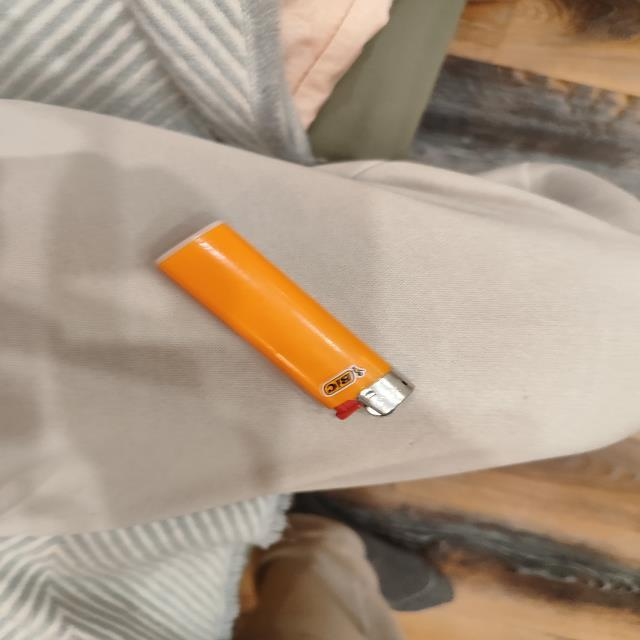lighter: (156, 223, 413, 419)
